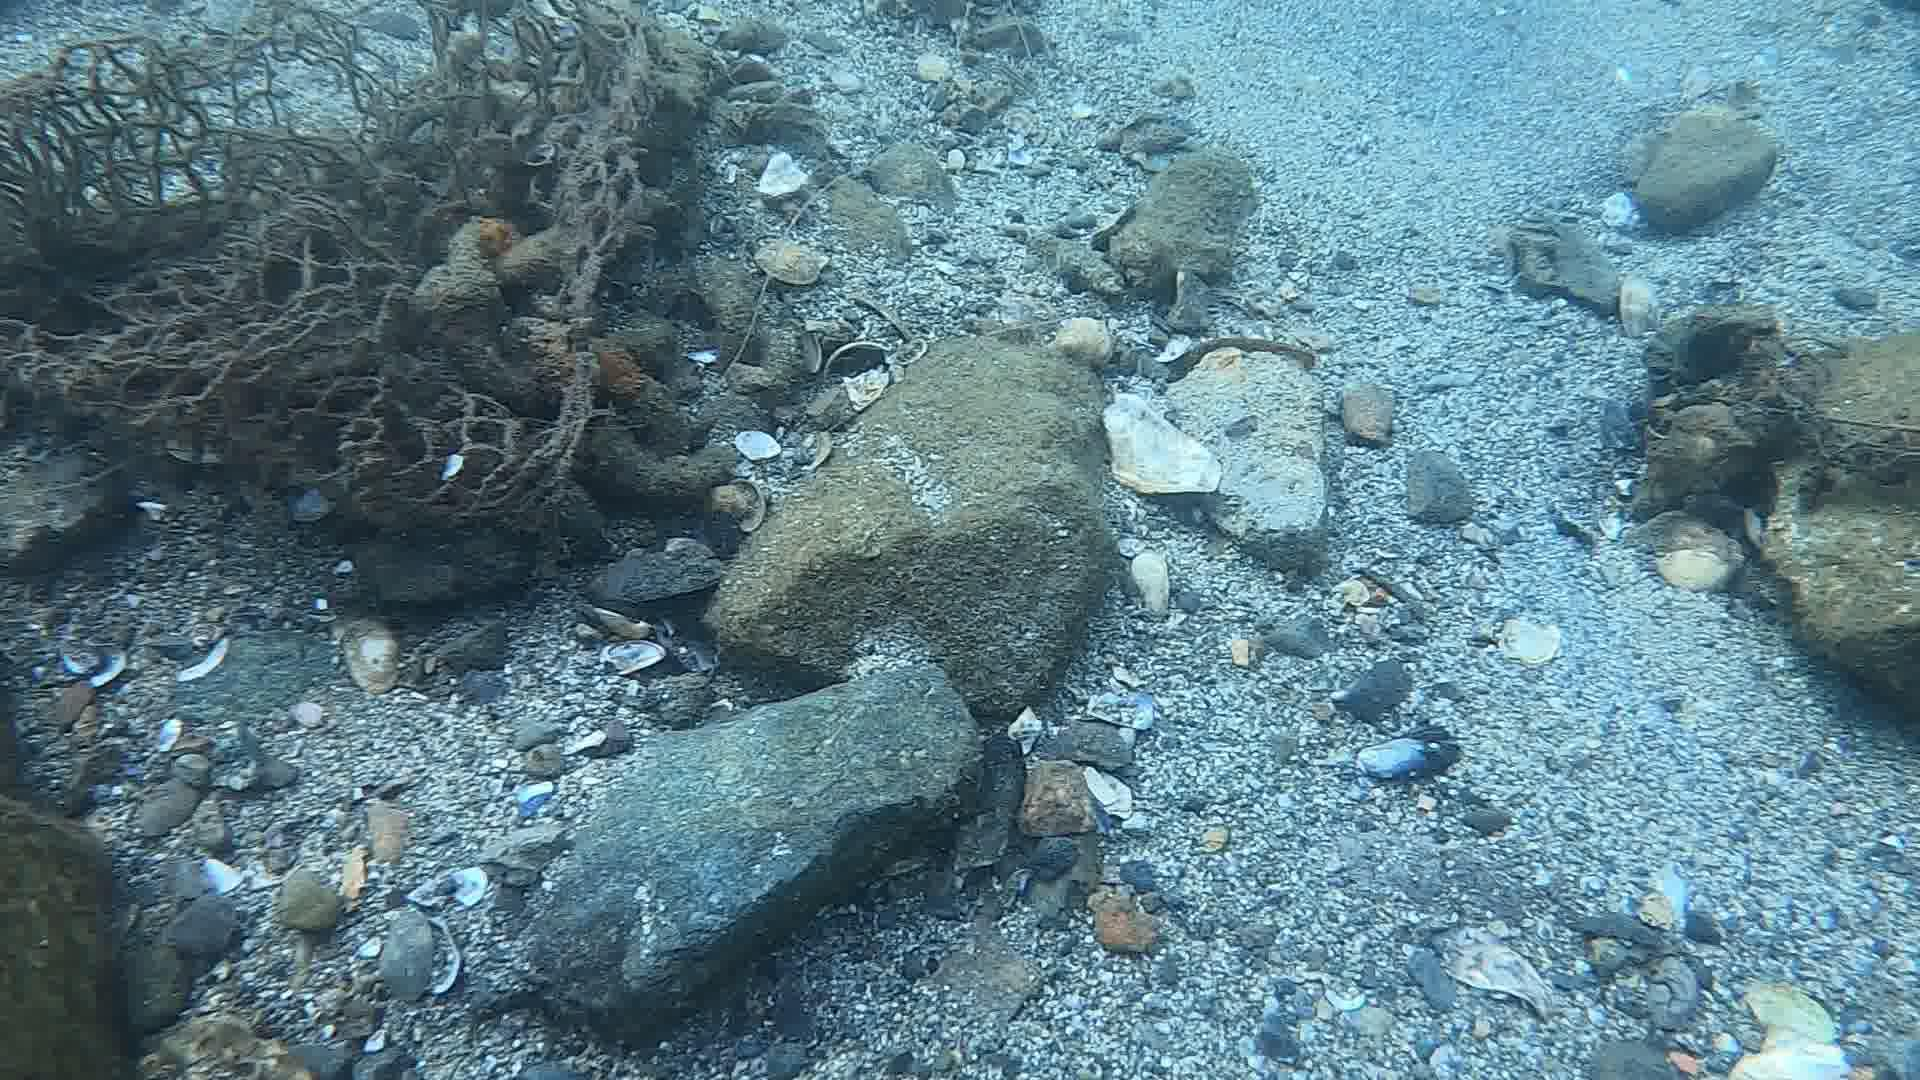fish net: (0, 0, 650, 508)
